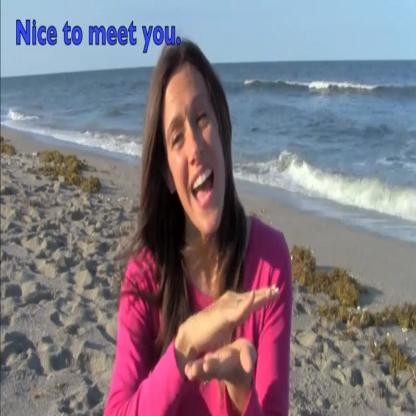NiceToMeetYou: (159, 251, 281, 405)
